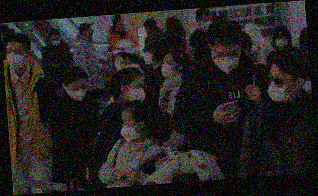with_mask: (265, 71, 290, 104), (211, 49, 240, 74), (4, 46, 27, 71), (119, 119, 138, 142), (126, 82, 146, 103), (67, 83, 88, 102), (160, 59, 177, 77), (273, 34, 289, 49), (199, 16, 213, 32), (142, 50, 154, 66), (113, 54, 124, 71), (118, 17, 127, 30), (49, 38, 61, 46), (160, 24, 167, 36)
